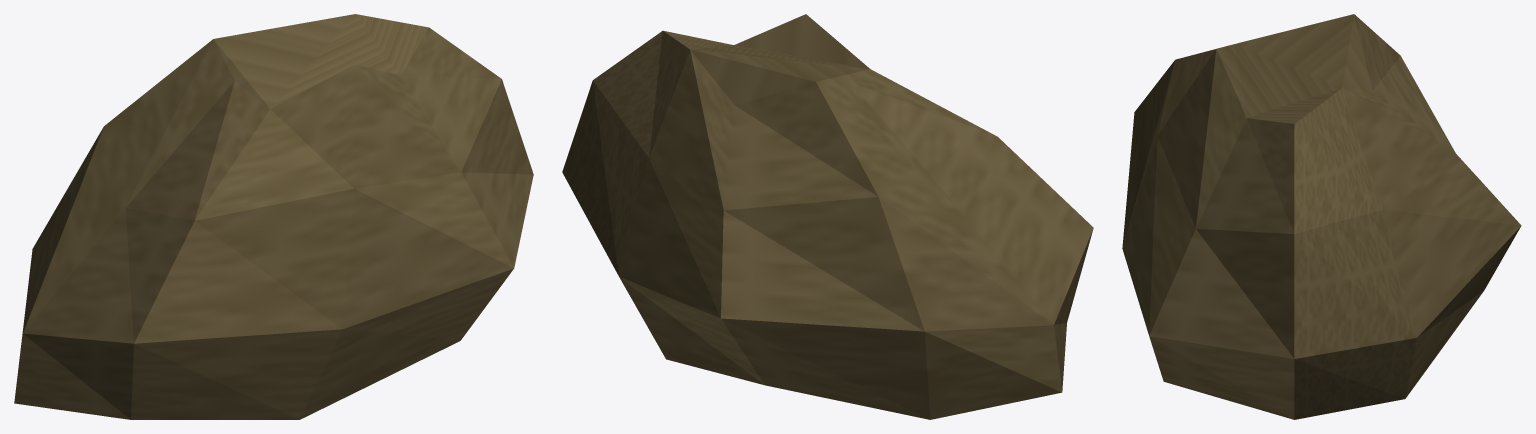
File: rock-strata-v121-lod1.glb
3 views of the same model, side by side, from view 1: azimuth 30°, elevation 25°; view 2: azimuth 150°, elevation 25°; view 3: azimuth 270°, elevation 25° (orthographic). The views are drawn at different scales.
Size of the model in its own units: 0.6399 by 0.3678 by 0.4055.
Materials: 1 (1 with a texture image).
